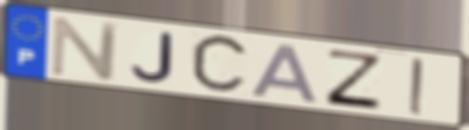A: (249, 41, 323, 105)
C: (188, 32, 253, 97)
I: (406, 55, 427, 118)
J: (128, 30, 176, 85)
N: (48, 15, 123, 82)
Z: (322, 47, 385, 112)
